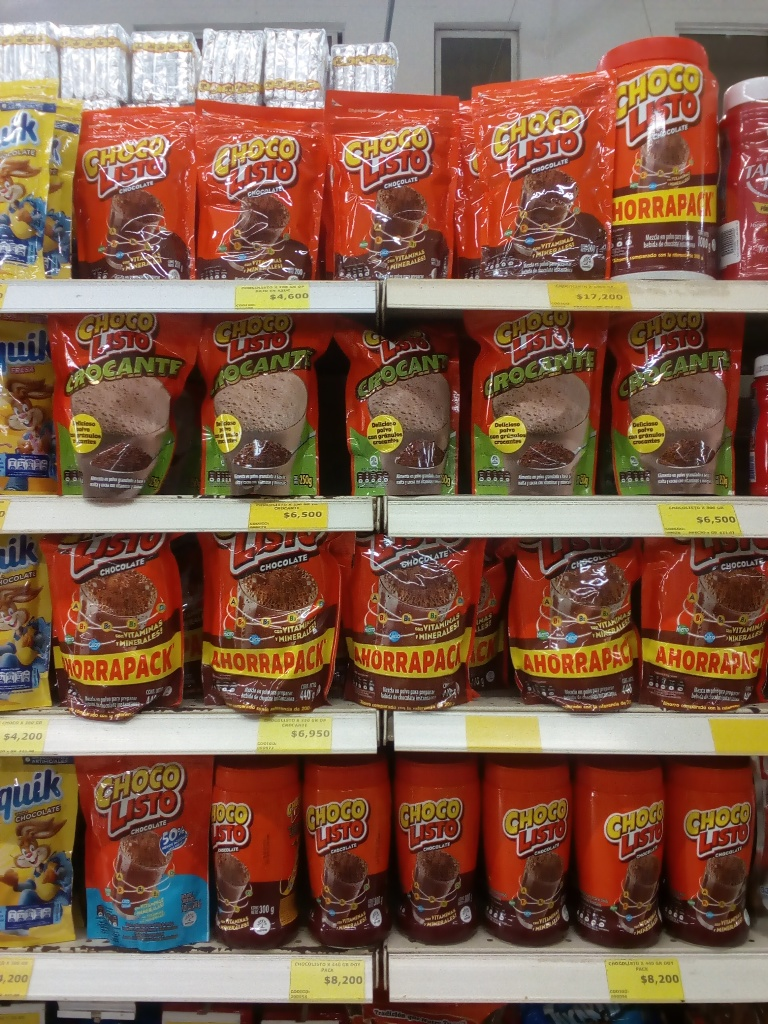COL0170103DYP44000: (46, 536, 195, 716)
COL0170103TRR00100: (605, 31, 726, 278)
